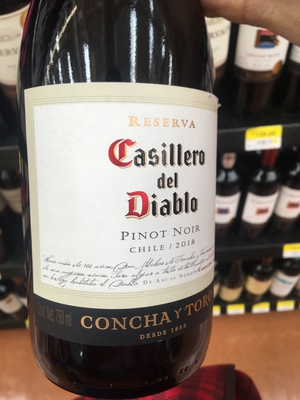casillero del diablo pinot noir: (18, 10, 231, 374)
